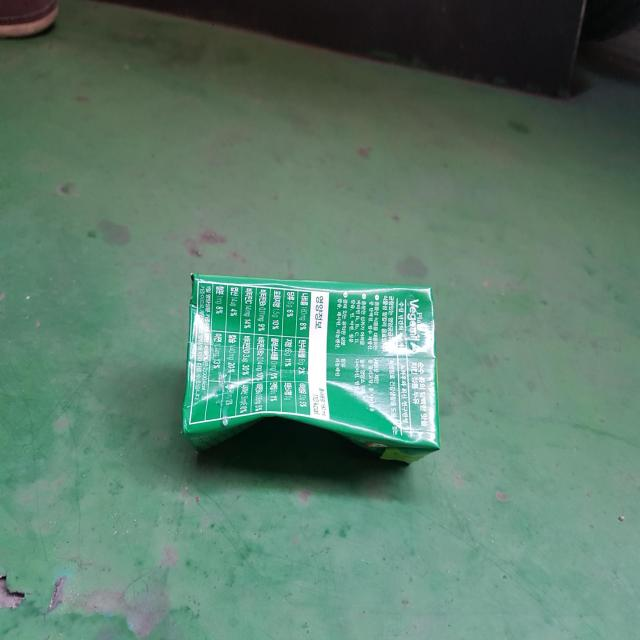paperpack: (182, 274, 441, 463)
